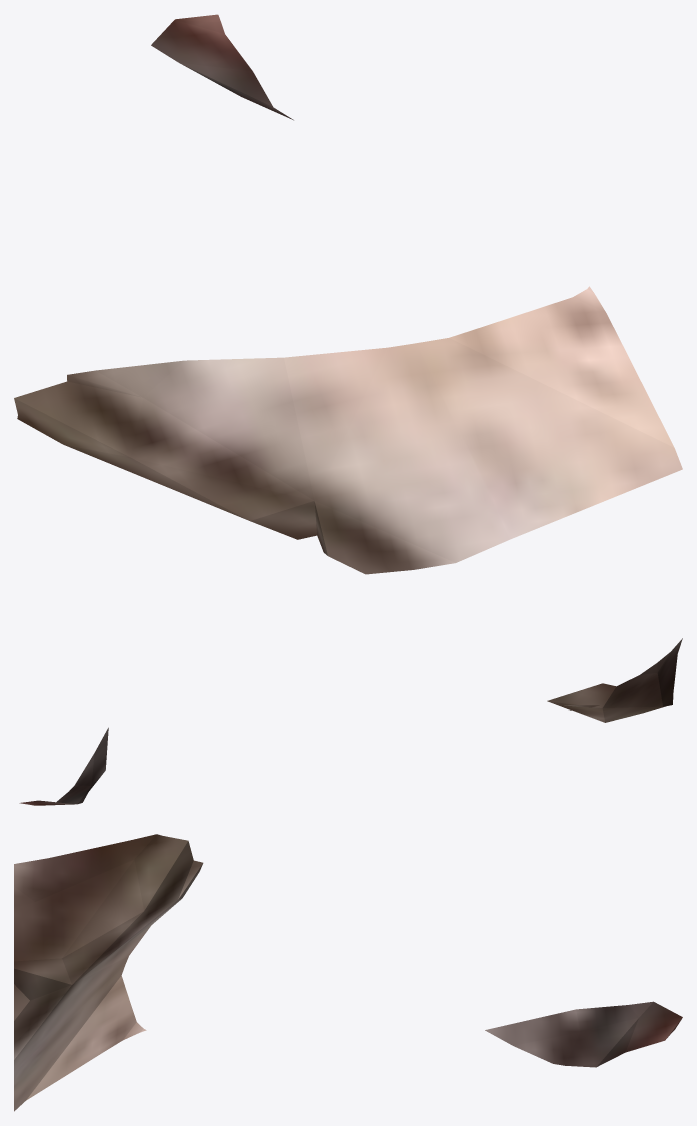
The picture shows the model from 3 angles, top to bottom: view 1: azimuth 30°, elevation 25°; view 2: azimuth 150°, elevation 25°; view 3: azimuth 270°, elevation 25°; orthographic projection. The views are drawn at different scales.
Size of the model in its own units: 0.1512 by 0.0391 by 0.2181.
Materials: 1 (1 with a texture image).
